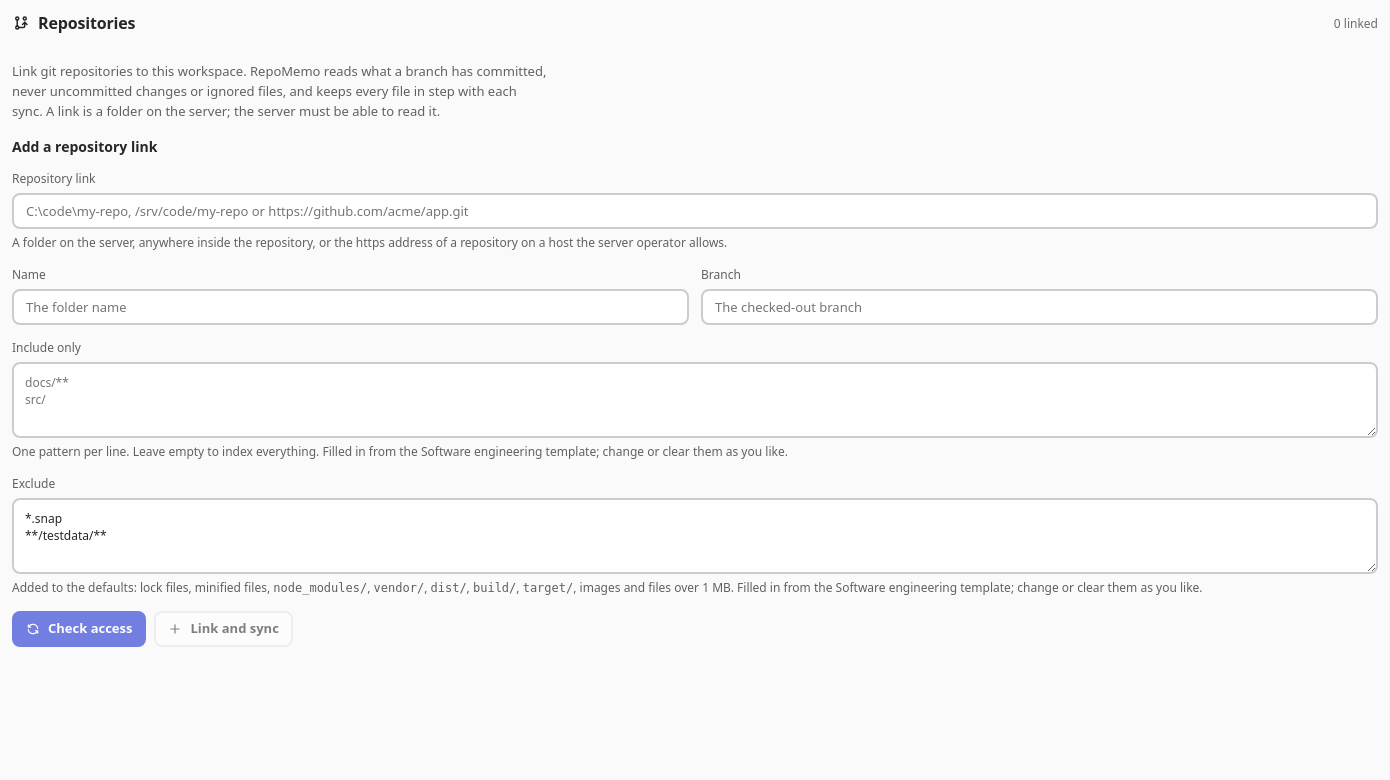
Test: the link form of a workspace › is filled in with the template's rules, which stay editable
Check: the text box labelled "Include only" is empty, box [12,362,1378,438]
Check: the text "Filled in from the Software engineering template; change or clear them as you like." is shown 2 times, box [12,443,788,460]; [12,580,1378,597]
Replace the text in the text box labelled "Exclude" with "*.snap": [695, 536] box [12,498,1378,574]
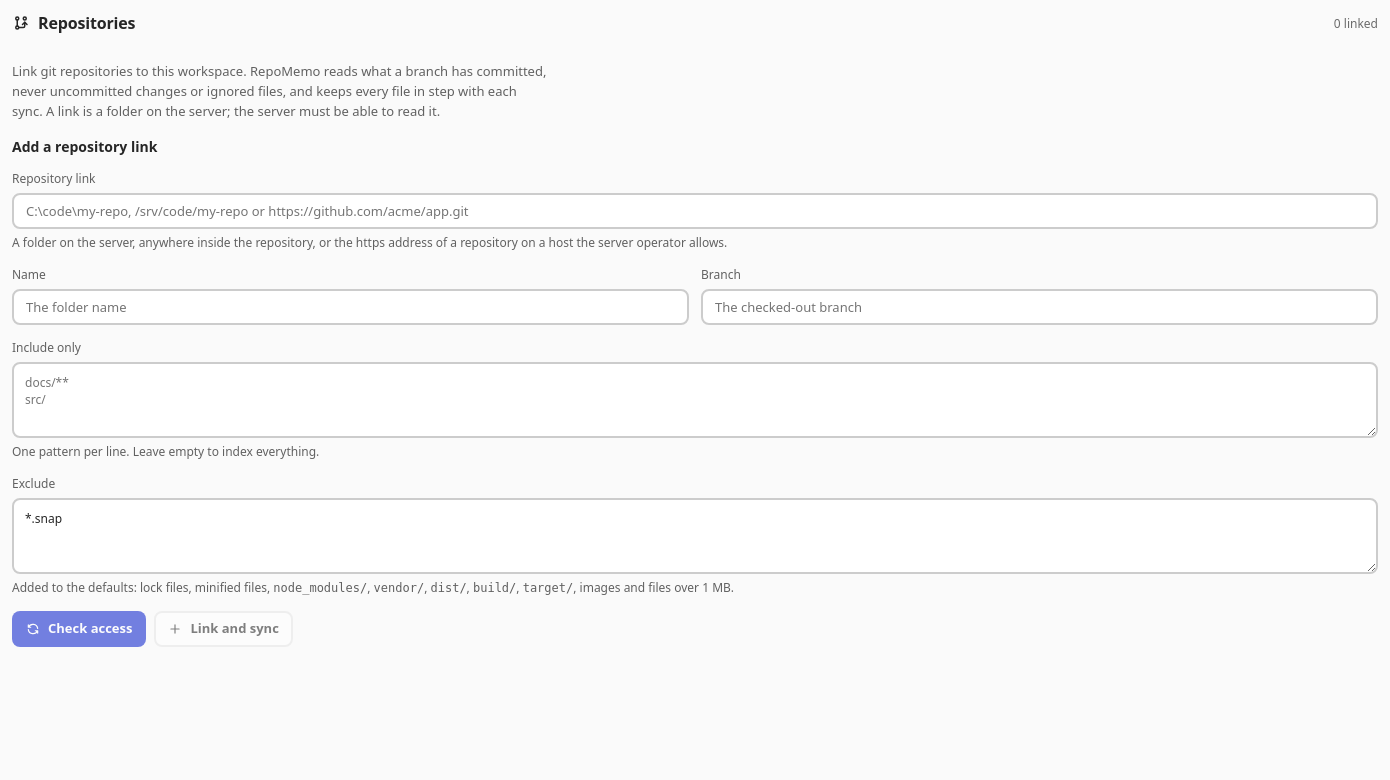
Check: the text "Filled in from the Software engineering template; change or clear them as you like." is gone
